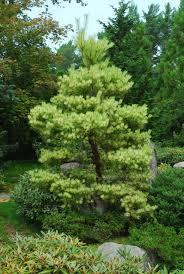tree: (27, 17, 158, 221)
